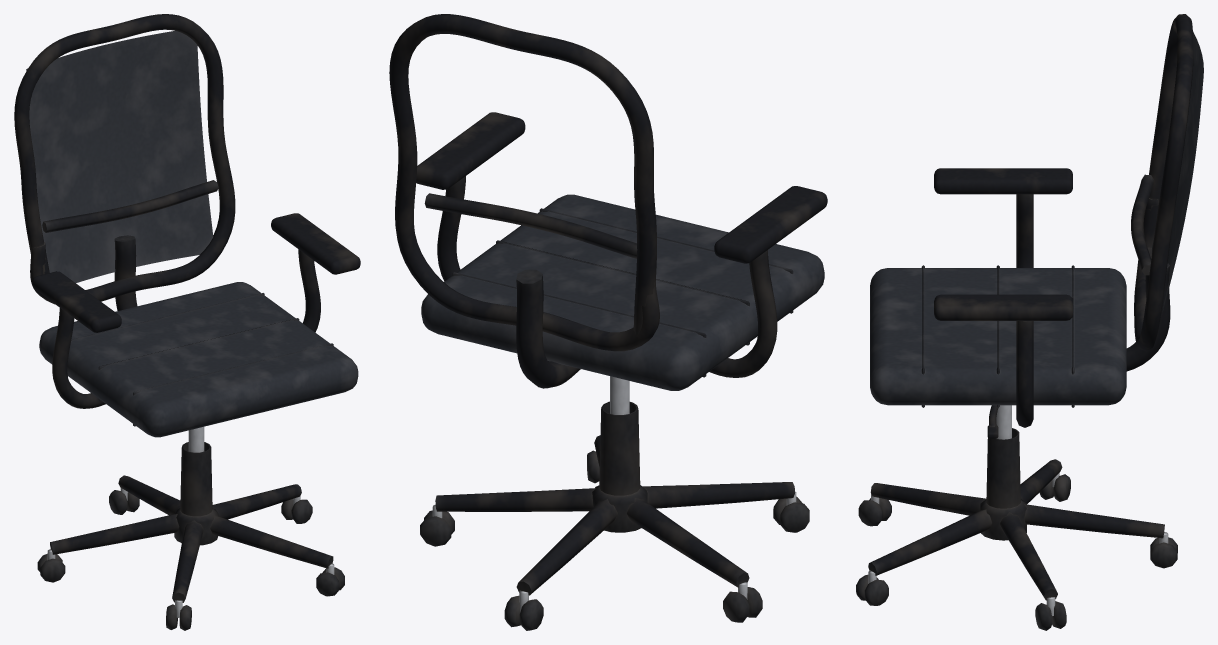
The model's file is dom_krzeslo.glb.
The picture shows the model from 3 angles, left to right: view 1: azimuth 30°, elevation 25°; view 2: azimuth 150°, elevation 25°; view 3: azimuth 270°, elevation 25°; orthographic projection. The views are drawn at different scales.
Visible parts, largest first — view 1: Tapicerka, Stelaz; view 2: Stelaz, Tapicerka; view 3: Stelaz, Tapicerka.
Part boxes in pixels (box(x1,y1,x2,y2)): Tapicerka: box(26, 30, 358, 437); Stelaz: box(14, 14, 360, 630); Stelaz: box(389, 14, 827, 630); Tapicerka: box(421, 194, 824, 390); Stelaz: box(856, 14, 1193, 630); Tapicerka: box(870, 31, 1203, 407).
Size of the model in its own units: 0.6303 by 1.08 by 0.6508.
Materials: 2 (2 with a texture image).
